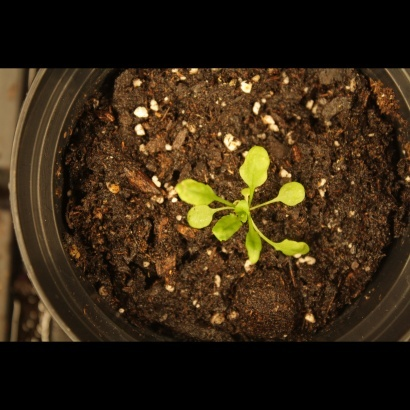leaf: (237, 140, 273, 192), (173, 174, 223, 210), (272, 229, 314, 264), (276, 175, 308, 210), (241, 225, 266, 265), (211, 215, 242, 242), (184, 206, 216, 231), (231, 199, 254, 222)
